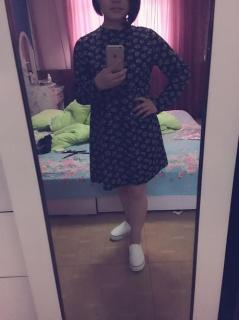long sleeve dress: (73, 25, 191, 191)
